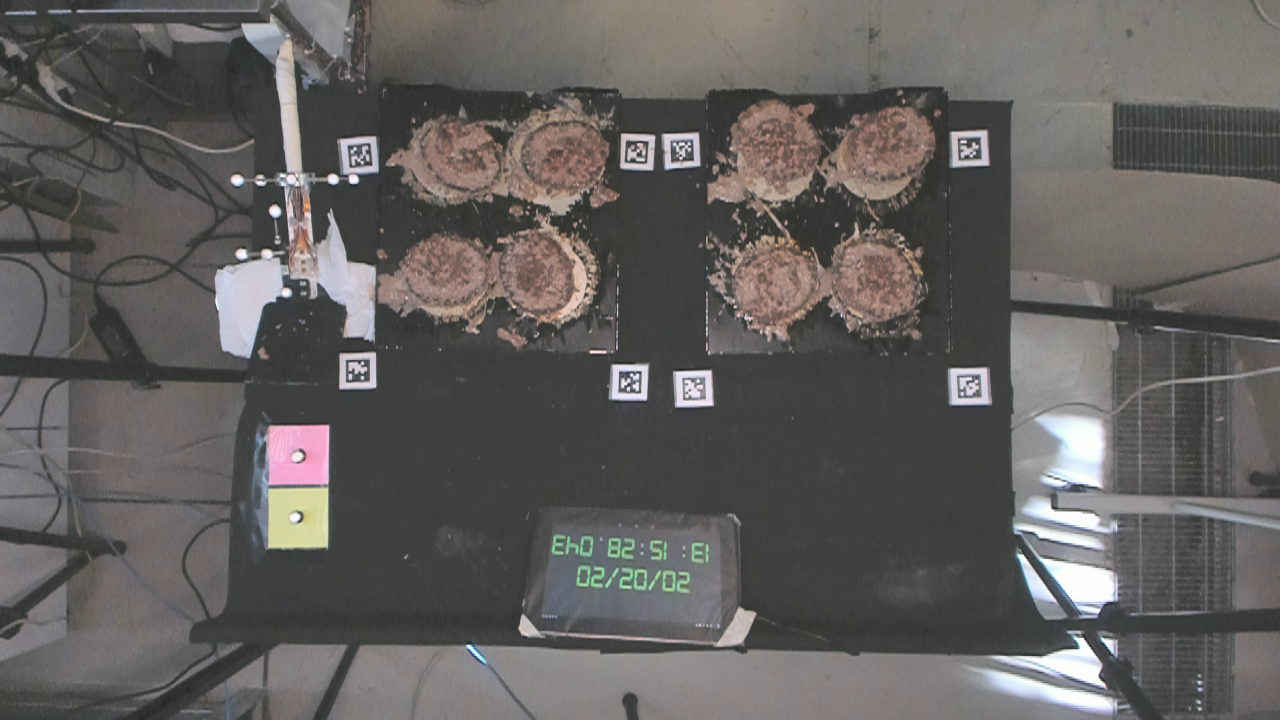hamburger: (833, 231, 920, 324), (732, 98, 823, 182), (731, 242, 819, 324), (416, 118, 507, 193), (496, 232, 575, 317), (398, 230, 484, 308), (845, 105, 935, 179), (523, 120, 608, 189)
marker: (266, 426, 329, 483)
